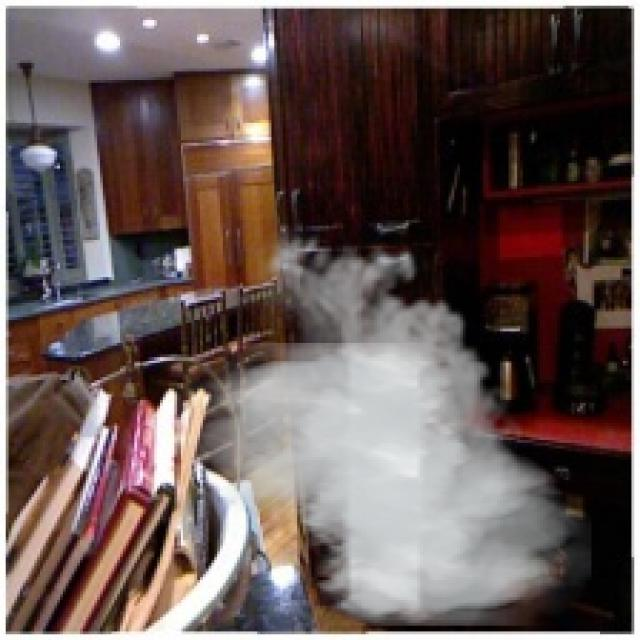smoke: (177, 223, 592, 626)
